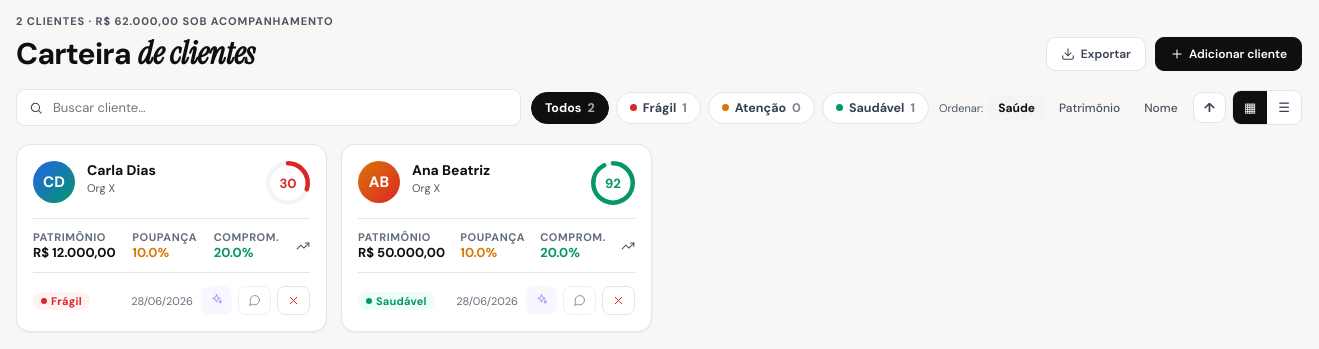
Test: ConsultantClientsPage › filtra por faixa de saúde (Frágil → só Carla)
Check: the text "Ana Beatriz" is shown, box [412, 161, 490, 179]
Click the button "Frágil 1".
click(658, 108)  # box [616, 92, 701, 124]
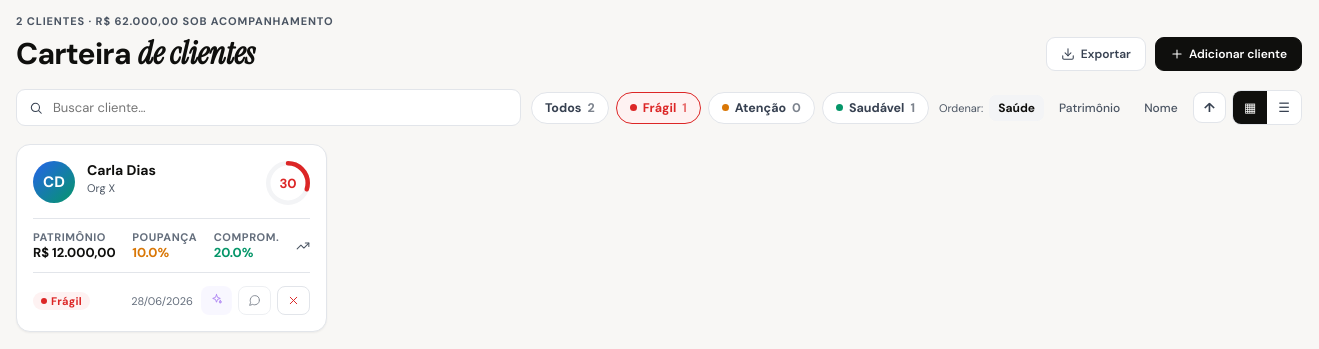
Check: the text "Carla Dias" is shown, box [87, 161, 156, 179]
Check: the text "Ana Beatriz" is gone
